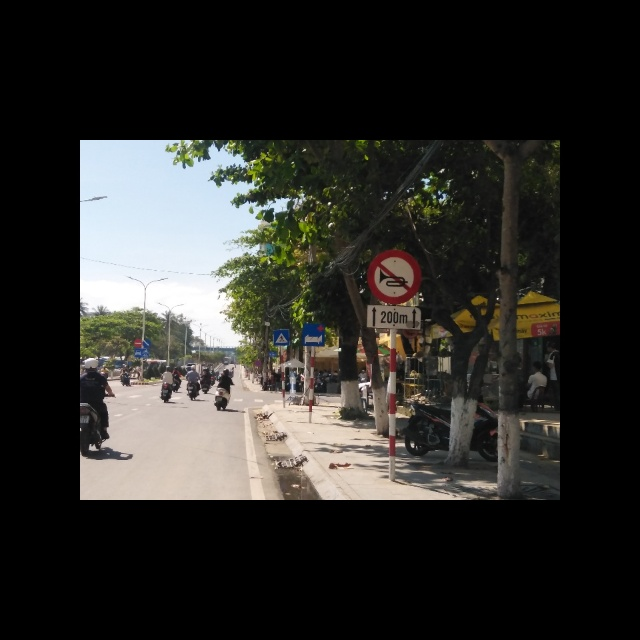Bệnh viện: (303, 323, 325, 346)
Cấm bấm còi: (367, 249, 424, 307)
Đường dành cho người đi bộ: (272, 330, 290, 346)
